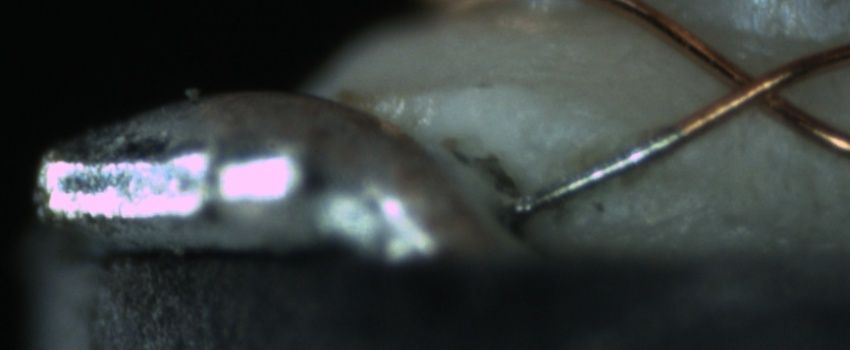CL: (704, 53, 808, 123)
TS: (513, 124, 683, 217)
